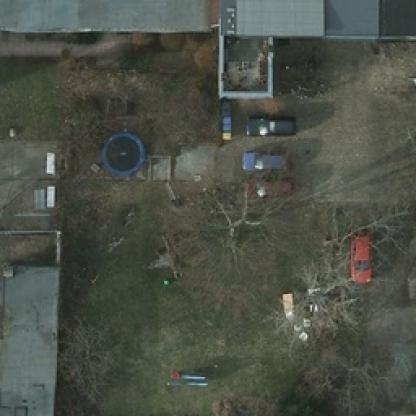car: (346, 234, 371, 284), (246, 177, 294, 200), (237, 148, 288, 169), (240, 114, 296, 132)
